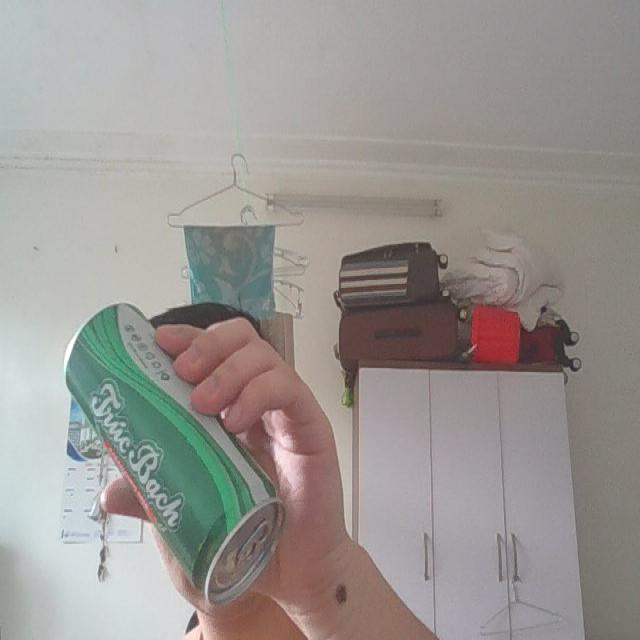Bia-Truc-Bach: (60, 298, 279, 606)
